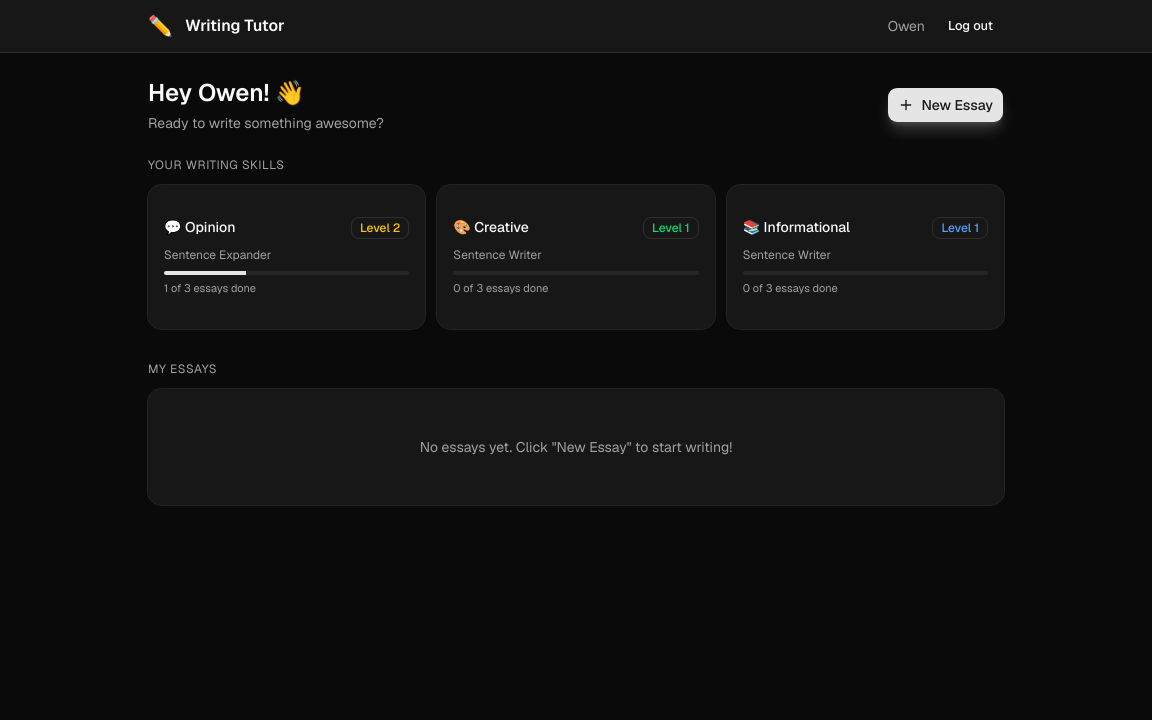
HomePage › opens the LevelInfoDialog when the Level badge on a skill card is clicked
The width and height of the screenshot is (1152, 720).
Click the text "Level 2".
click(380, 228)  # box [351,217,409,239]
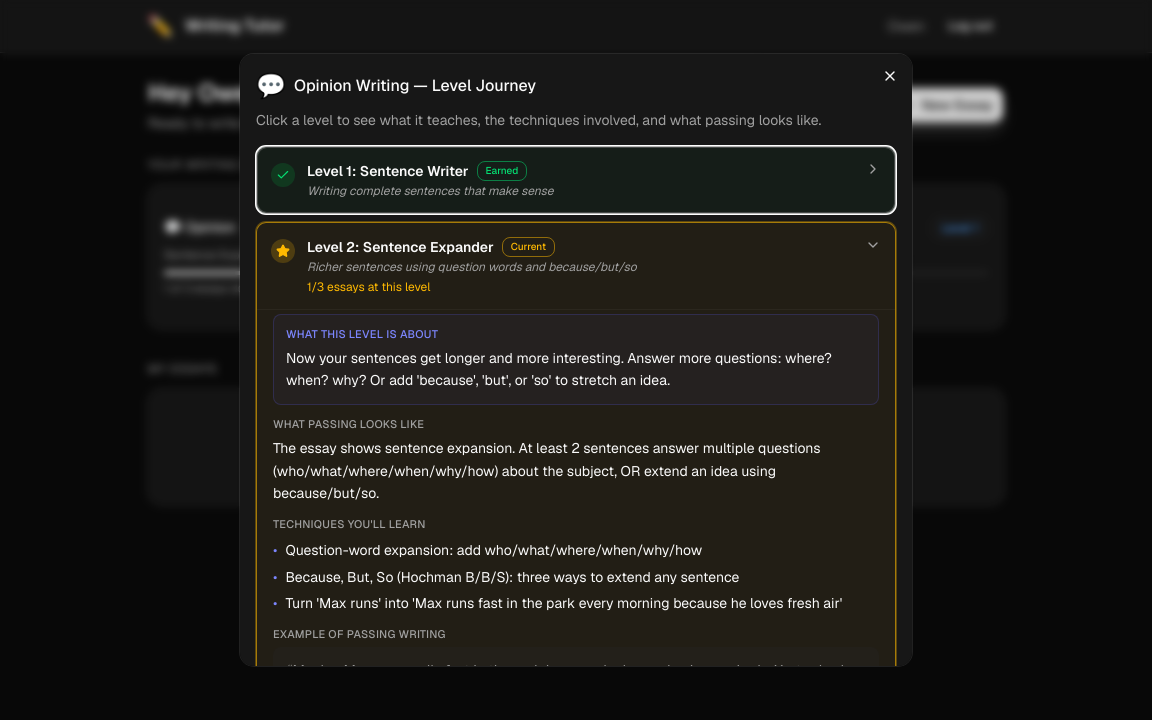
Now the text "Opinion Writing — Level Journey" is shown, box [294,78,536,94]
